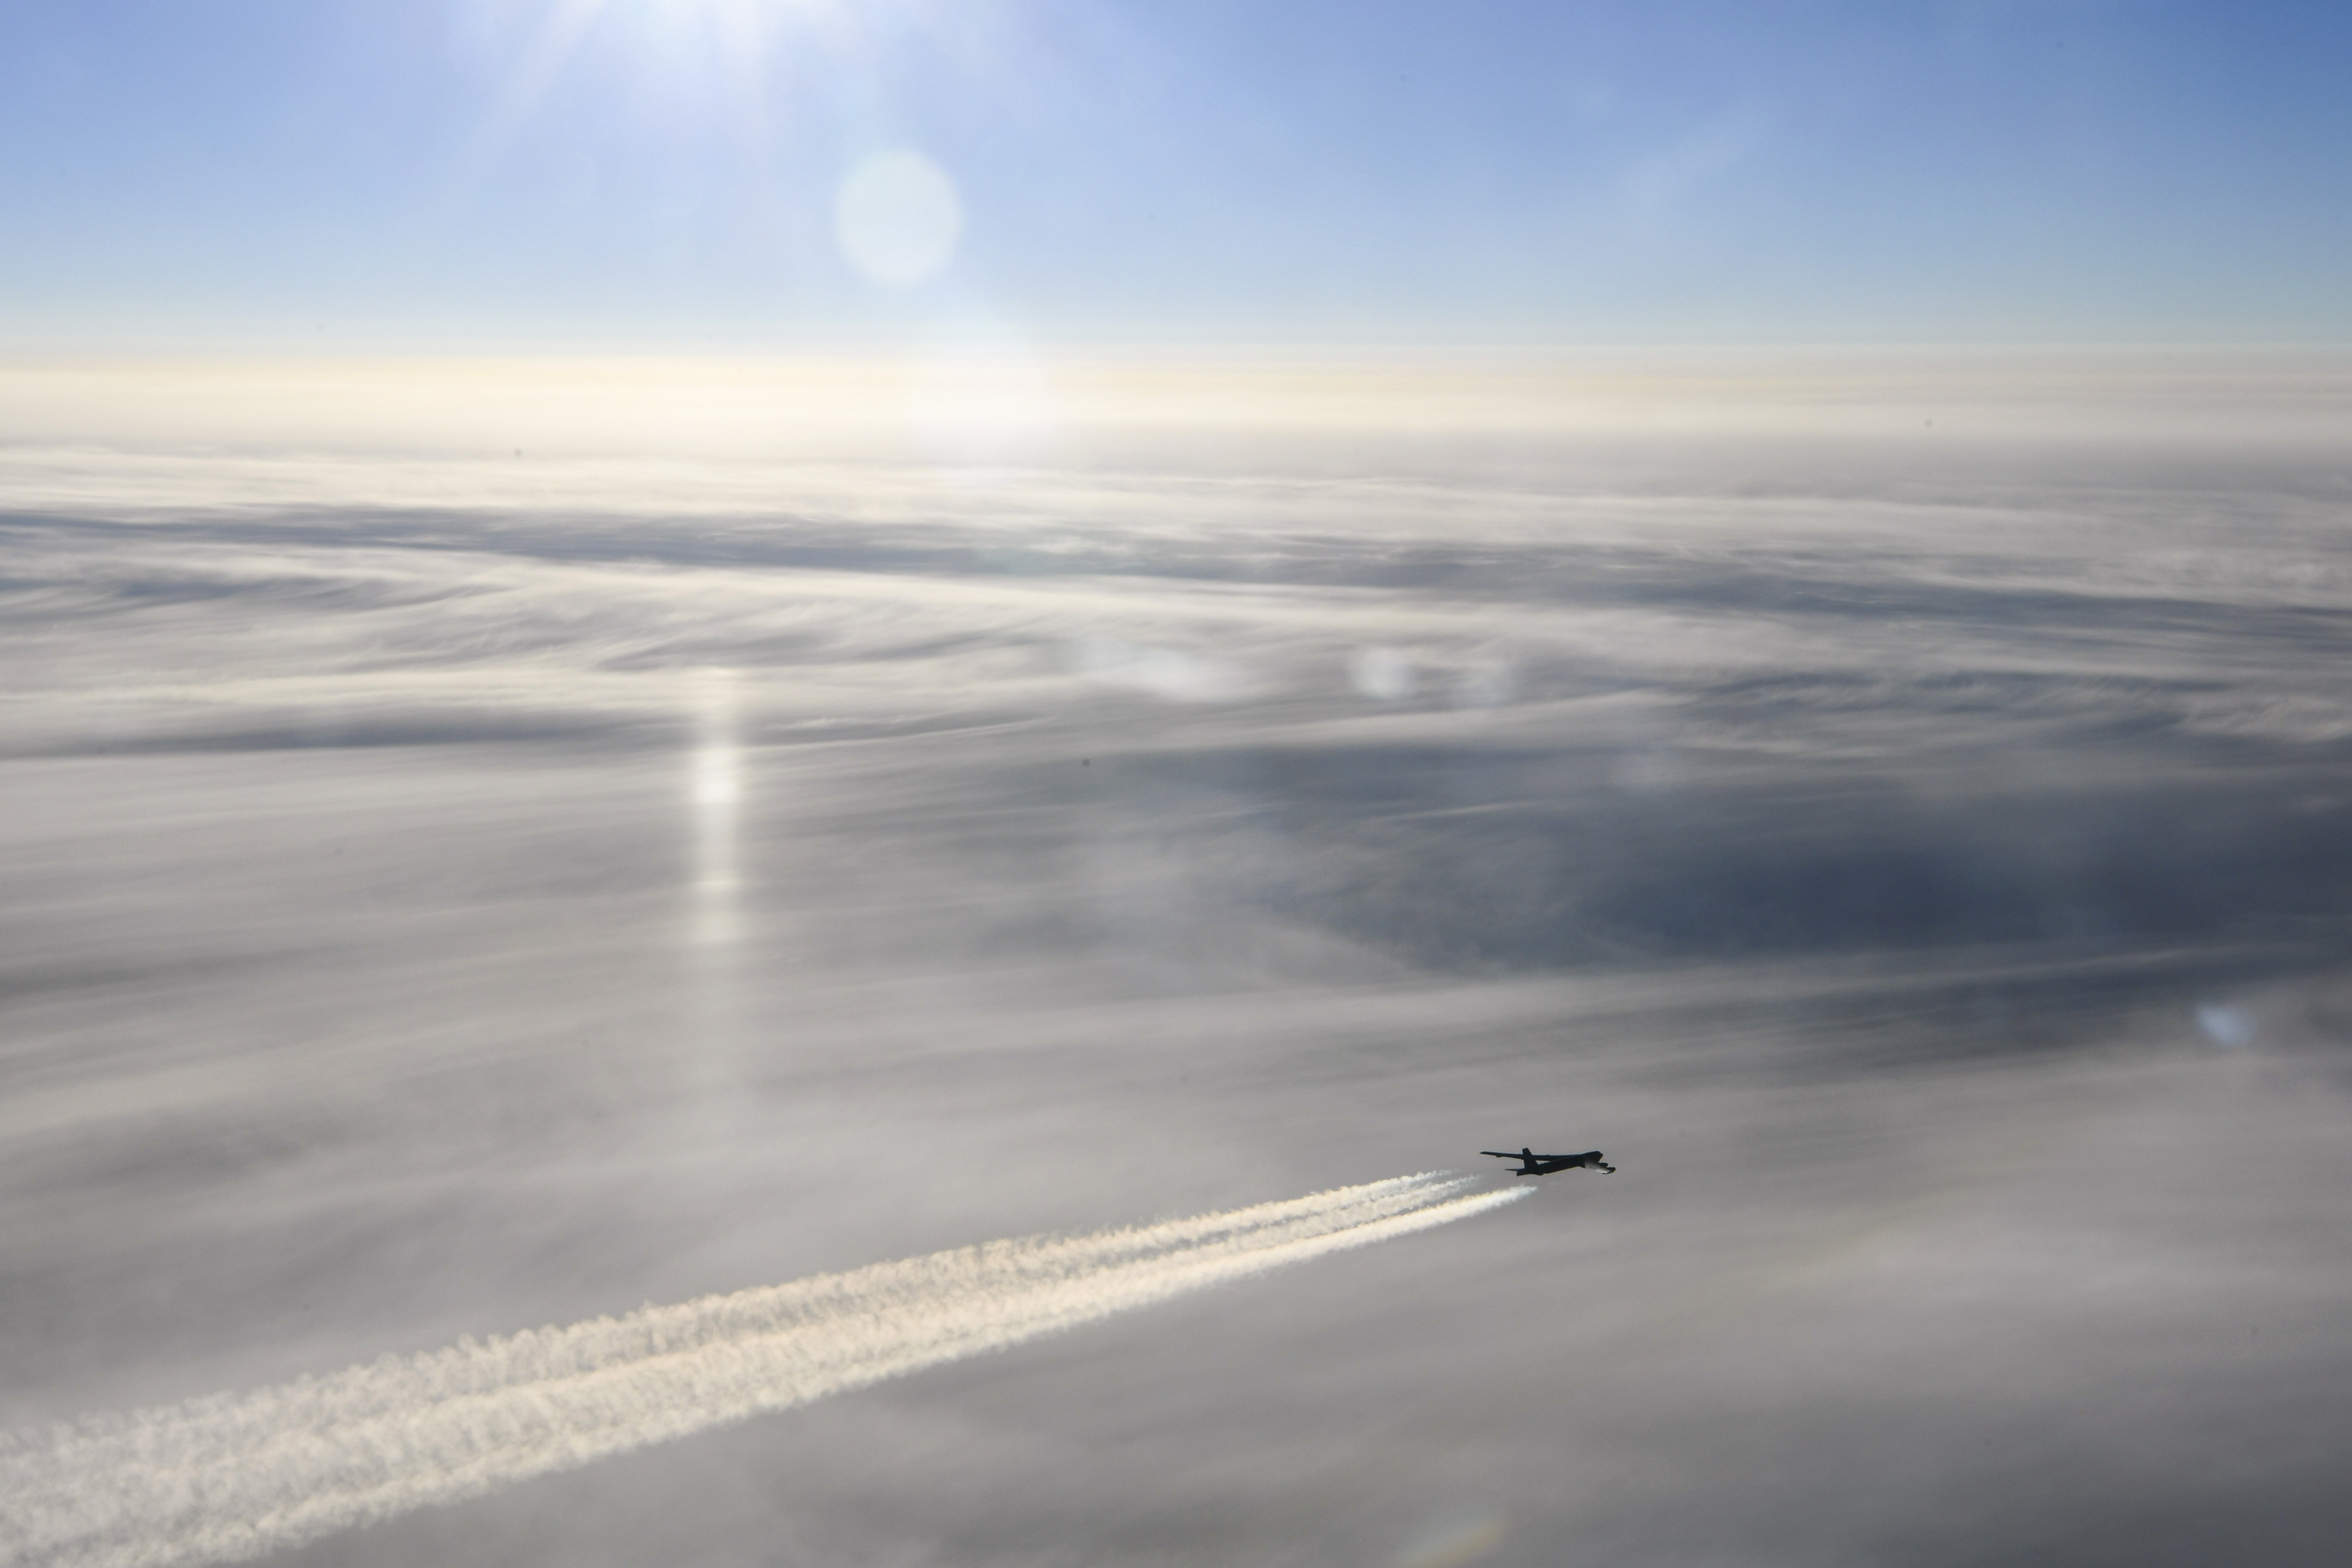B52: (1479, 1148, 1615, 1178)
